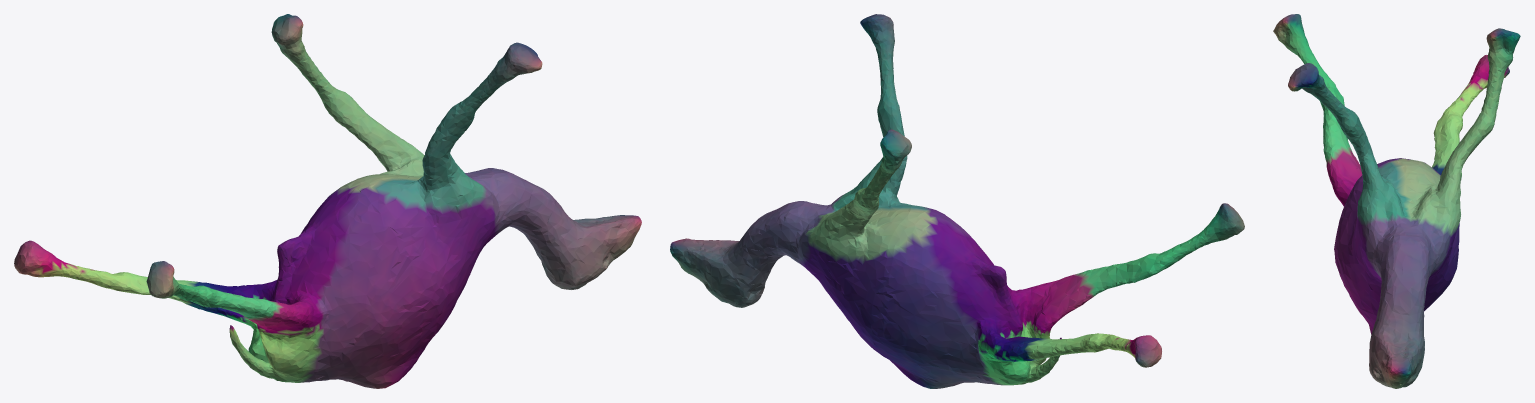
The model's file is camel-11.off.obj.
The picture shows the model from 3 angles, left to right: view 1: azimuth 30°, elevation 25°; view 2: azimuth 150°, elevation 25°; view 3: azimuth 270°, elevation 25°; orthographic projection. The views are drawn at different scales.
Bounding box in the file's own units: 1.66 × 0.9657 × 0.6794.
